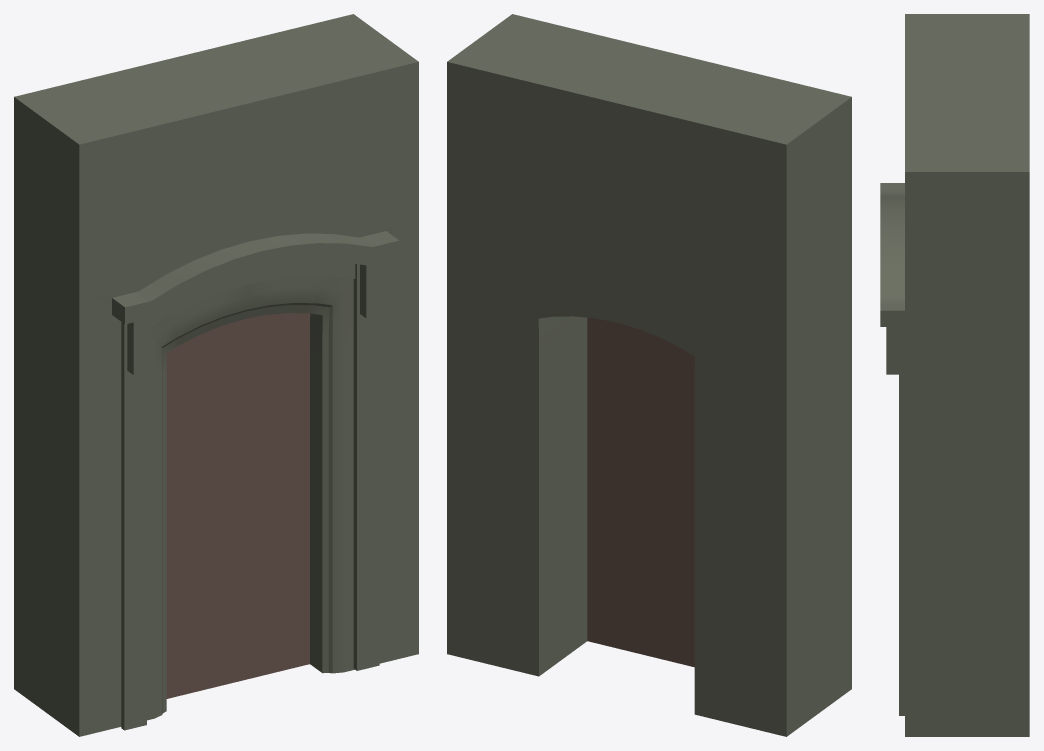
The model's file is SM_Build03_Wall_02.fbx.
3 renders of one model, left to right at view 1: azimuth 30°, elevation 25°; view 2: azimuth 150°, elevation 25°; view 3: azimuth 270°, elevation 25°, orthographic. The views are drawn at different scales.
Parts seen in each view (by area): view 1: SM_Build03_Wall_02; view 2: SM_Build03_Wall_02; view 3: SM_Build03_Wall_02.
Boxes of the visible parts, x1,y1,x2,y2 form: SM_Build03_Wall_02: (14, 14, 418, 736); SM_Build03_Wall_02: (447, 14, 851, 736); SM_Build03_Wall_02: (880, 14, 1029, 736).
Bounding box in the file's own units: 300 × 501 × 120.
